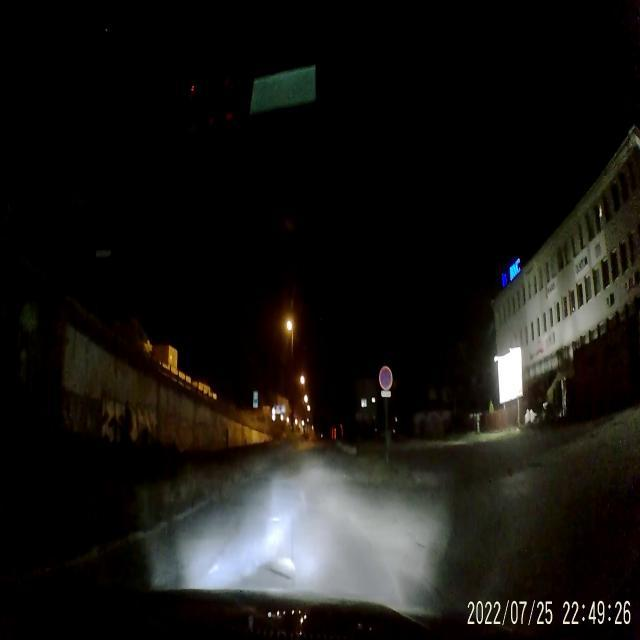Pothole: (264, 544, 298, 582)
